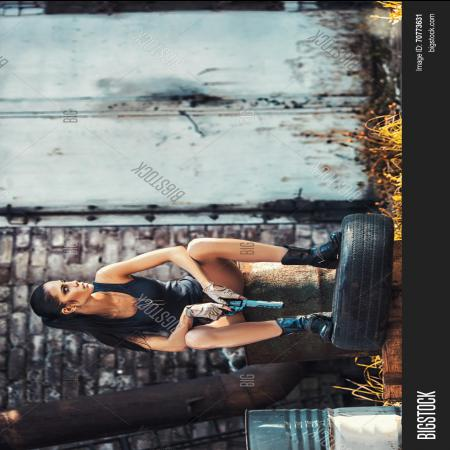Pistol: (209, 296, 282, 320)
